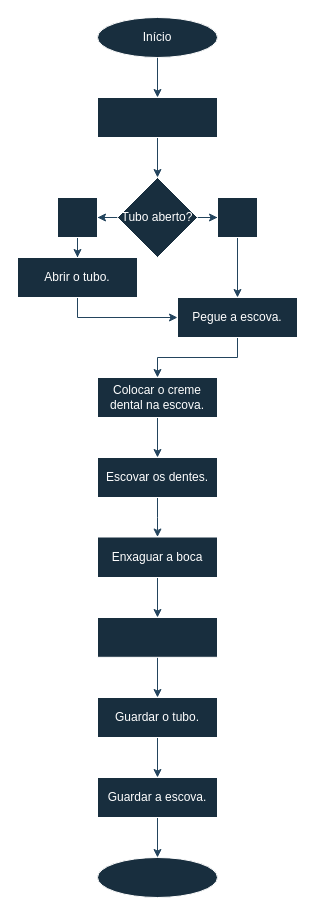
The diagram is 315 pixels wide and 915 high, and some of its shapes have lost their labels. The centre of each missing label's shape, as x and y in pixels:
"Fechar o tubo." belongs at (x=157, y=636).
"Fim." belongs at (x=157, y=877).
"Não" belongs at (x=77, y=217).
"Pegar o creme dental" belongs at (x=157, y=117).
"Sim" belongs at (x=237, y=217).
